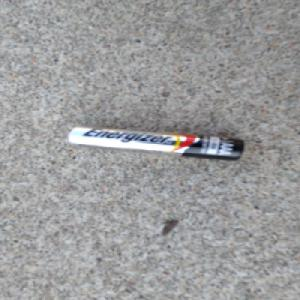Battery: (62, 124, 250, 162)
